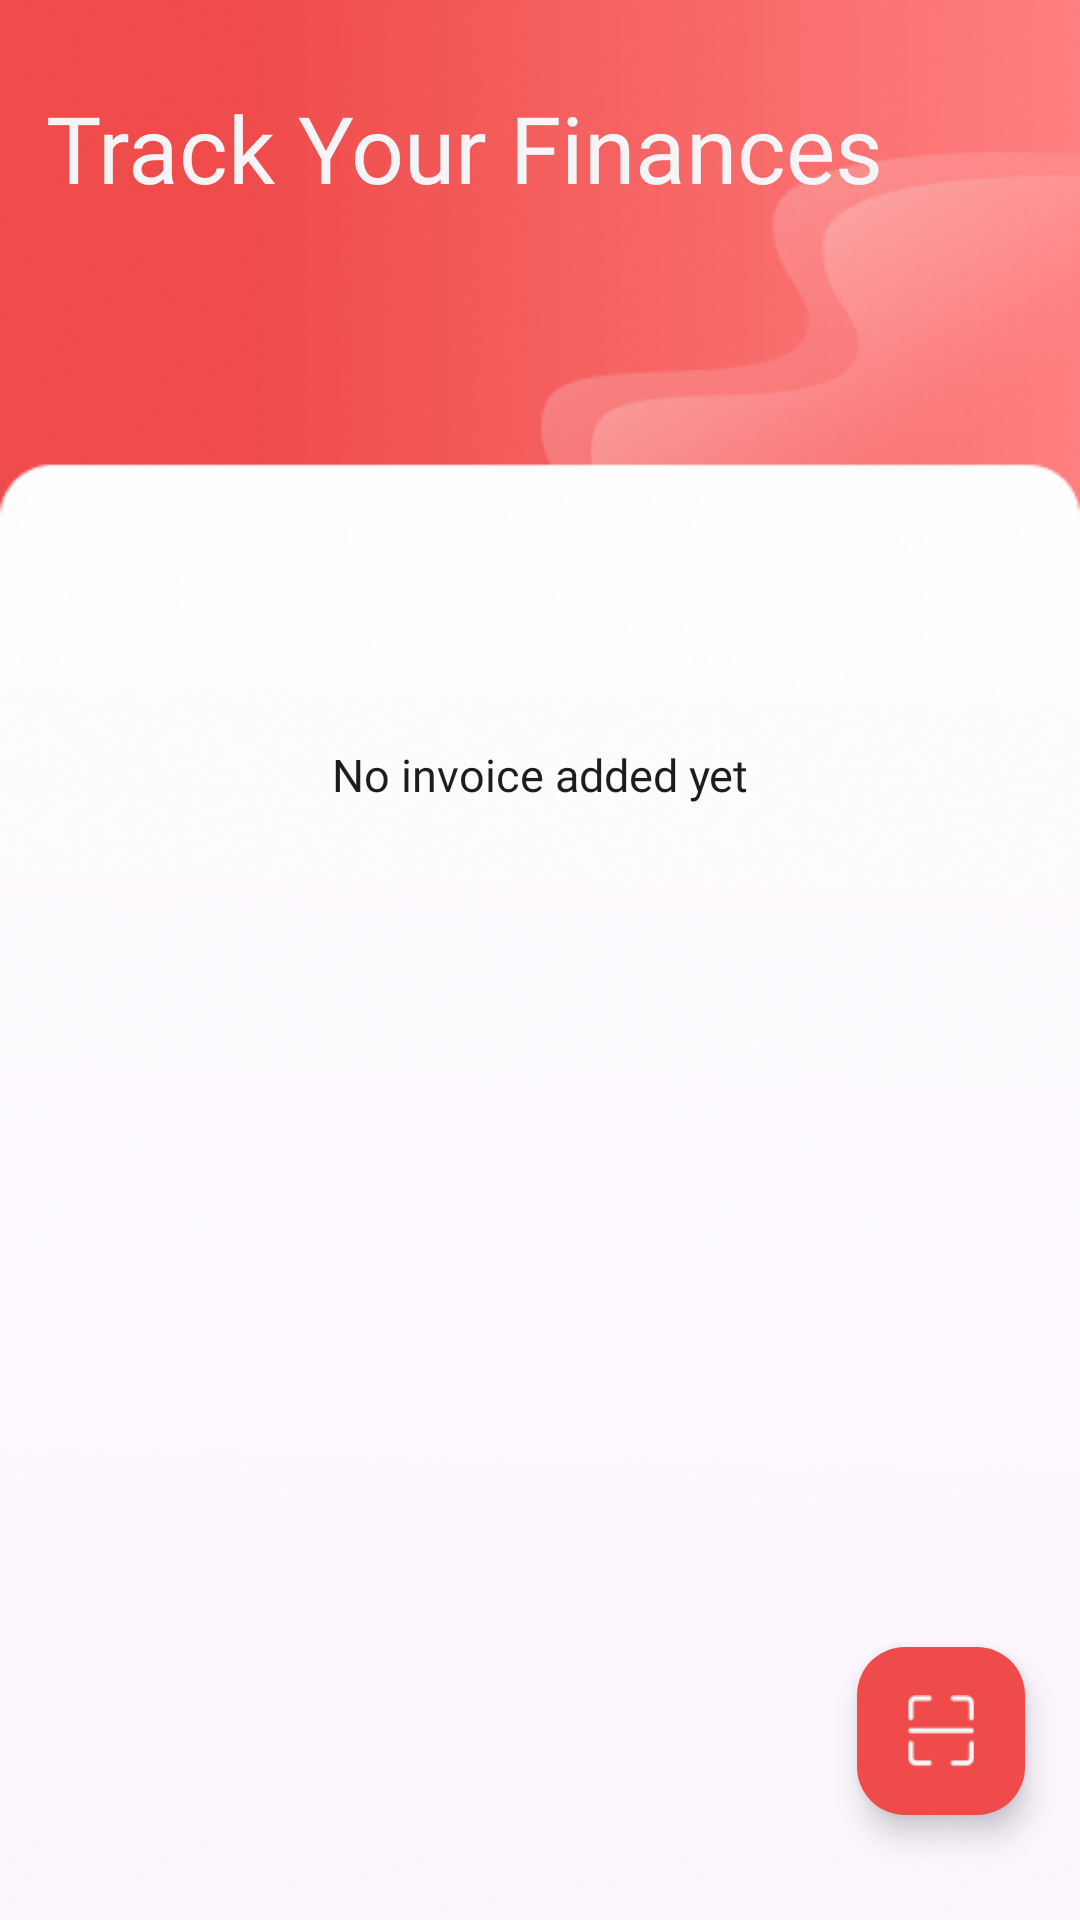

Where to tap for icons on this 1080 x 1920 app screen, as (x,y):
scan: (941,1731)
